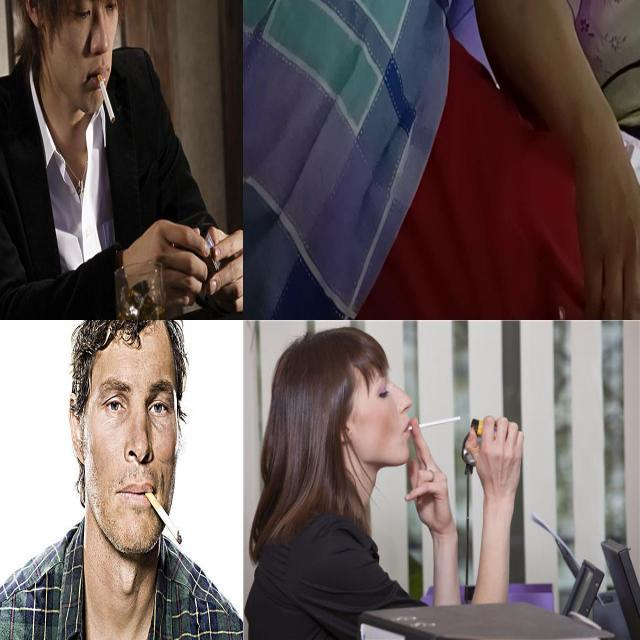cigarette: (144, 488, 183, 546), (402, 412, 463, 430), (96, 74, 115, 124)
